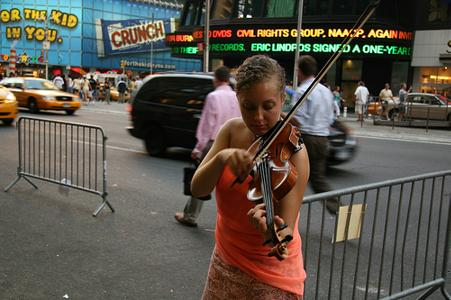person: (191, 56, 312, 299)
